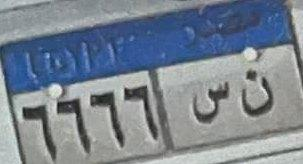6: (87, 89, 126, 157), (53, 97, 92, 156), (17, 102, 57, 158), (123, 83, 157, 144)
noon: (234, 70, 275, 123)
seen: (187, 76, 230, 123)
